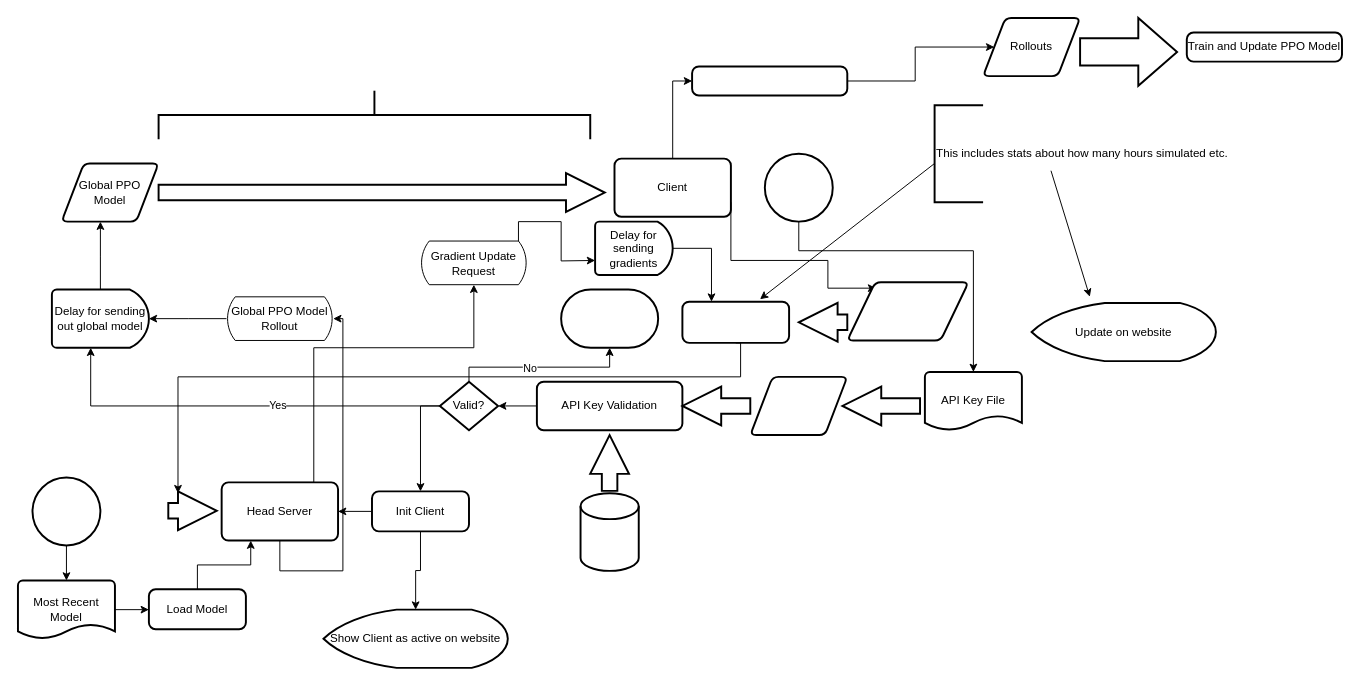
The diagram is 1359 pixels wide and 685 high, and some of its shapes have lost their labels. The shapes that lost their labels are listed below. From the top down, each one's centre as x and y in pixels, then its label:
At (769,80): "Run Sim workers to get rollouts from PPO model".
At (374,114): "Overrides prior gradients (maybe?) and prior model.".
At (798,187): "Start Client".
At (609,318): "End Client".
At (735,321): "Gradient Averager".
At (907,311): "DGC Gradients".
At (798,405): "API Key".
At (66,511): "Start Server".
At (609,531): "API Key DB".
